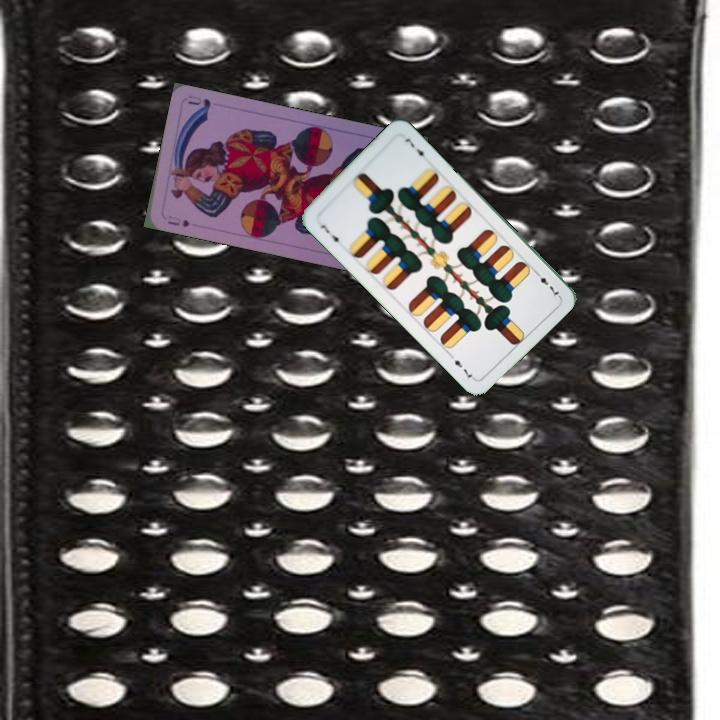E7: (530, 267, 562, 299), (317, 221, 344, 249)
SU: (164, 212, 192, 230)
